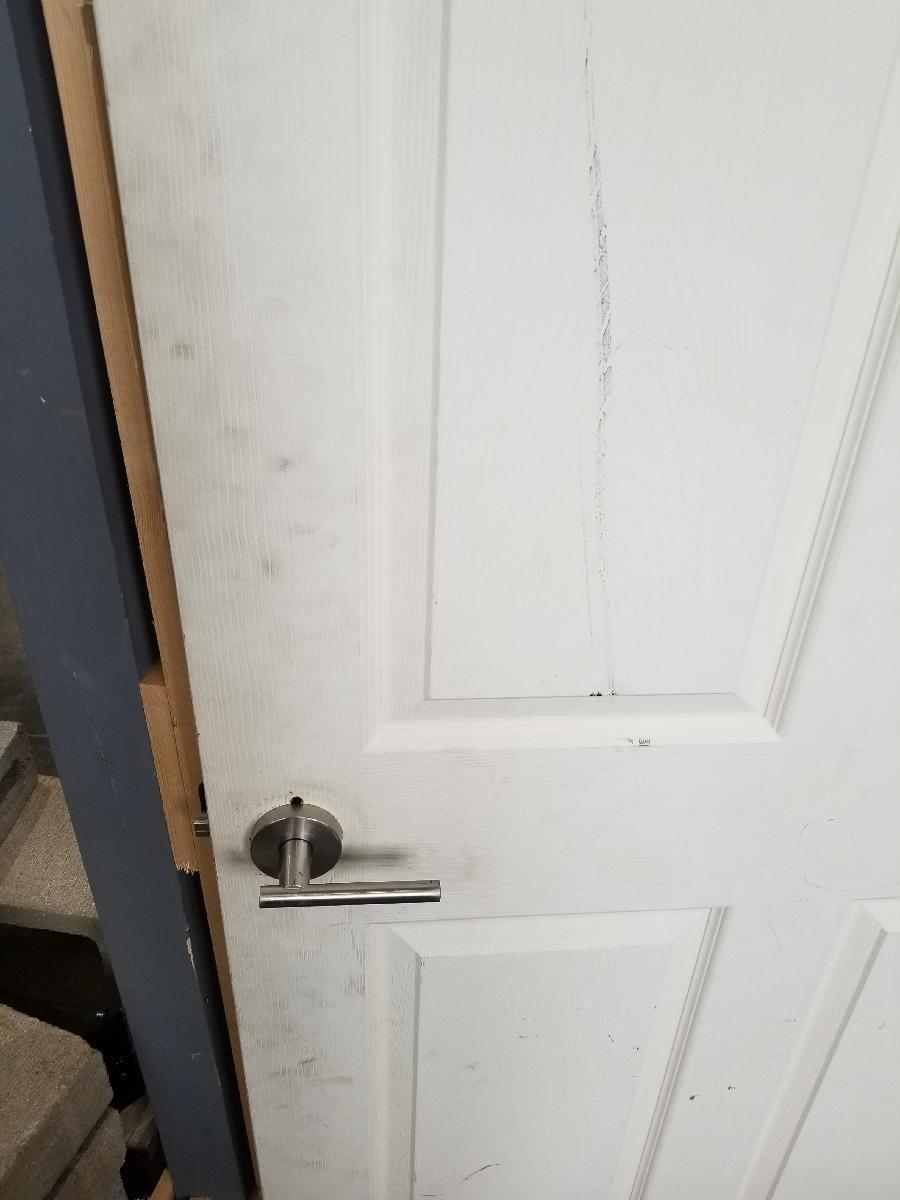door: (222, 0, 900, 1188)
handle: (248, 793, 448, 917)
